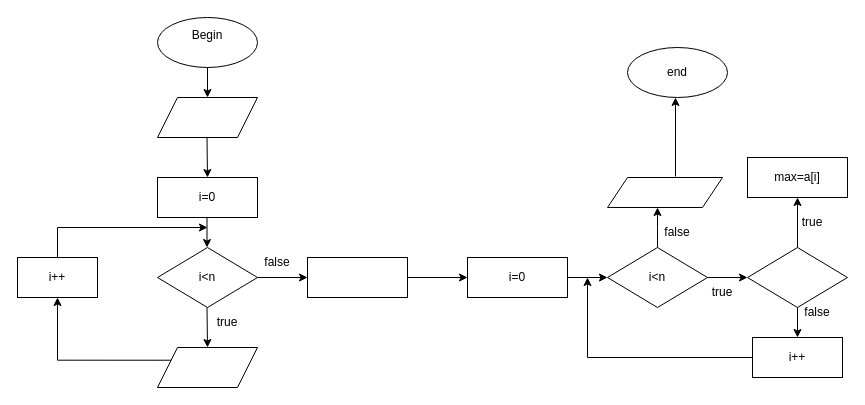
Image size: 865x405. Some labels were removed from this diagram. The centre of each missing label's shape, as x and y in pixels:
"in max" belongs at (664,192).
"max<a[i]" belongs at (797,277).
"max=a[0]" belongs at (357,277).
"Nhap a[i ]" belongs at (207,367).
"Nhap n" belongs at (207,117).
